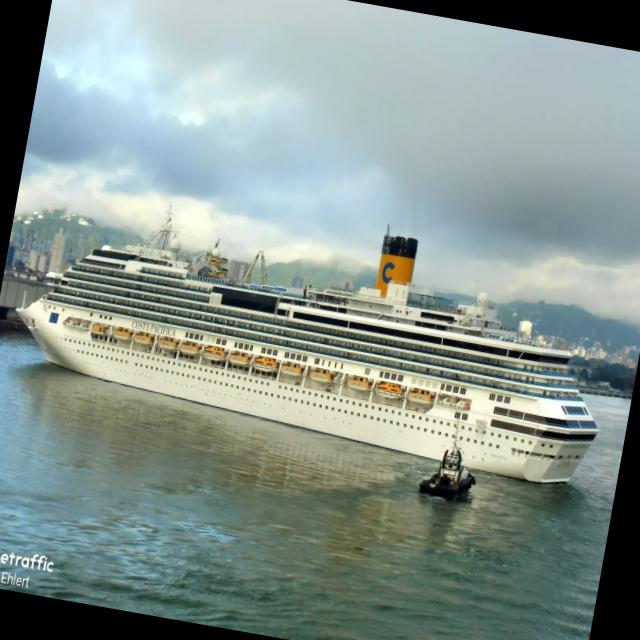Cruise: (16, 236, 597, 481)
Tug: (419, 443, 475, 499)
